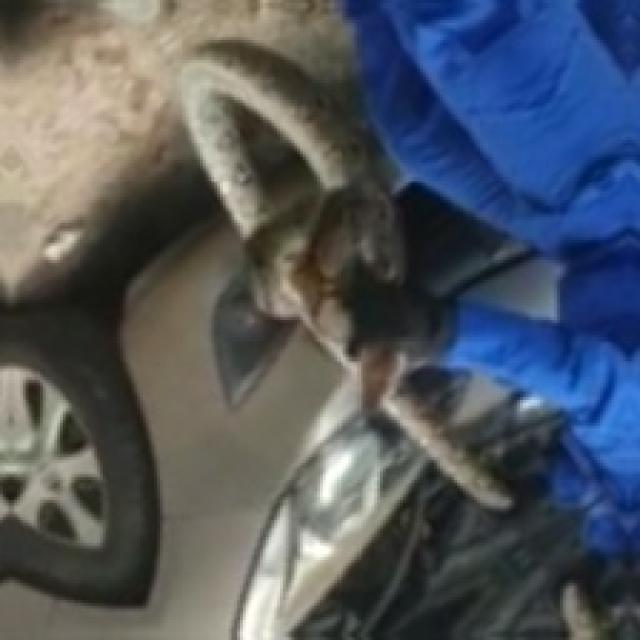reticulated python: (180, 41, 405, 363), (361, 349, 515, 511)
